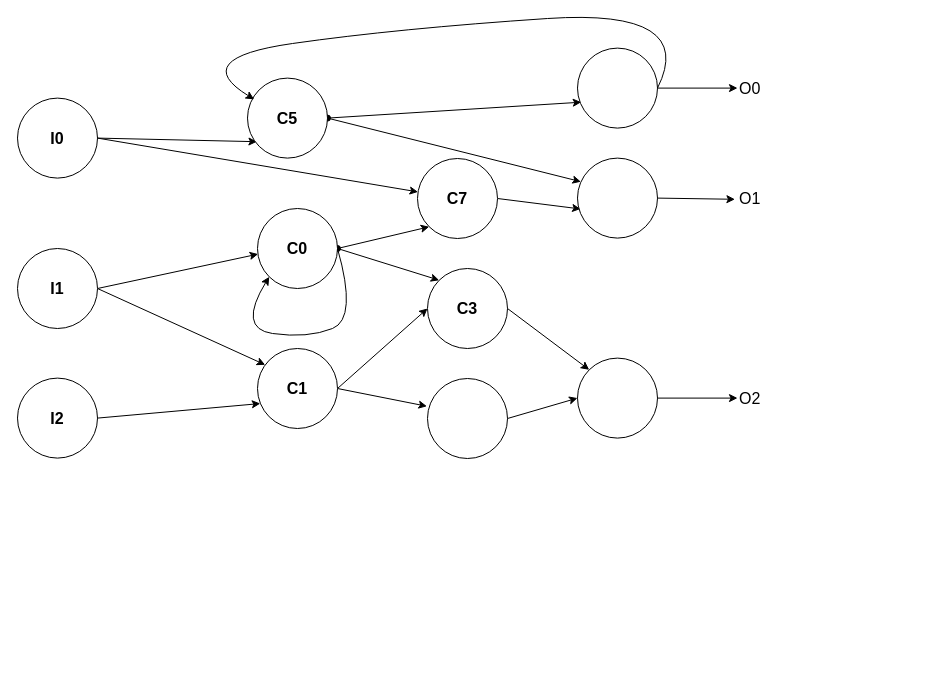
Some shapes in this 925 by 696 pixel diagram are drawn without their labels. Each missing label, with the box of its shape:
C2: (426, 378, 508, 458)
C4: (576, 357, 658, 438)
C6: (576, 157, 658, 238)
C8: (576, 47, 658, 128)
